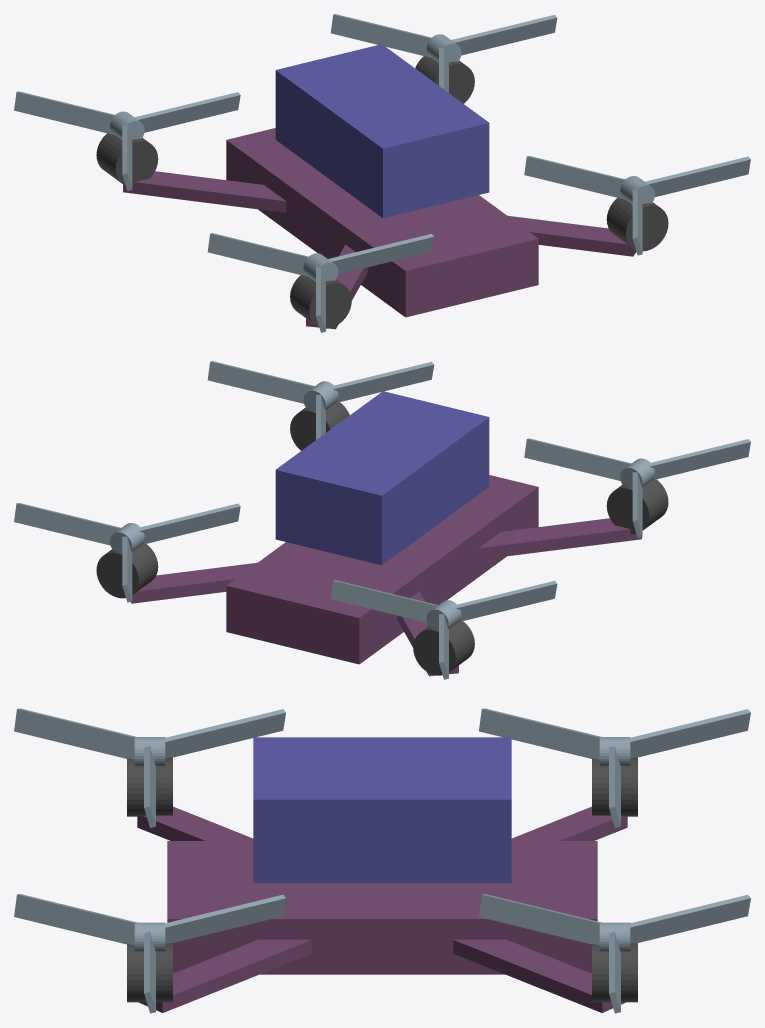
The model's file is Beebrain.glb.
3 renders of one model, top to bottom at view 1: azimuth 30°, elevation 25°; view 2: azimuth 150°, elevation 25°; view 3: azimuth 270°, elevation 25°, orthographic. The views are drawn at different scales.
Parts seen in each view (by area): view 1: battery, frame_body, prop_3, prop_0, prop_2, prop_1, arm_3, arm_0, motor_0, motor_2, motor_3, motor_1 (+1 smaller); view 2: battery, frame_body, prop_1, prop_2, prop_3, prop_0, arm_2, arm_1, motor_1, motor_3, motor_2, motor_0 (+1 smaller); view 3: battery, frame_body, prop_1, prop_0, prop_2, prop_3, arm_1, arm_0, arm_2, arm_3, motor_0, motor_1 (+2 smaller).
Part boxes in pixels (x1,y1,x2,y2): battery: [275, 44, 489, 218]; frame_body: [226, 128, 538, 317]; prop_3: [14, 91, 240, 190]; prop_0: [524, 156, 750, 255]; prop_2: [207, 233, 434, 332]; prop_1: [330, 14, 557, 92]; arm_3: [123, 171, 286, 212]; arm_0: [507, 215, 636, 256]; motor_0: [606, 198, 668, 251]; motor_2: [290, 275, 351, 328]; motor_3: [96, 133, 158, 186]; motor_1: [415, 56, 474, 103]; battery: [275, 391, 489, 565]; frame_body: [226, 475, 538, 664]; prop_1: [14, 503, 240, 602]; prop_2: [524, 438, 750, 537]; prop_3: [330, 580, 557, 679]; prop_0: [207, 361, 434, 439]; arm_2: [478, 518, 641, 559]; arm_1: [131, 562, 257, 603]; motor_1: [96, 544, 158, 598]; motor_3: [413, 621, 474, 675]; motor_2: [606, 479, 668, 533]; motor_0: [290, 402, 349, 450]; battery: [253, 737, 511, 883]; frame_body: [167, 841, 597, 974]; prop_1: [479, 894, 750, 1013]; prop_0: [14, 894, 285, 1013]; prop_2: [14, 708, 285, 827]; prop_3: [479, 708, 750, 827]; arm_1: [453, 939, 625, 1012]; arm_0: [139, 939, 311, 1012]; arm_2: [137, 806, 253, 840]; arm_3: [511, 806, 627, 840]; motor_0: [127, 943, 172, 1002]; motor_1: [592, 943, 637, 1002].
Size of the model in its own units: 0.2195 by 0.06 by 0.2397.
